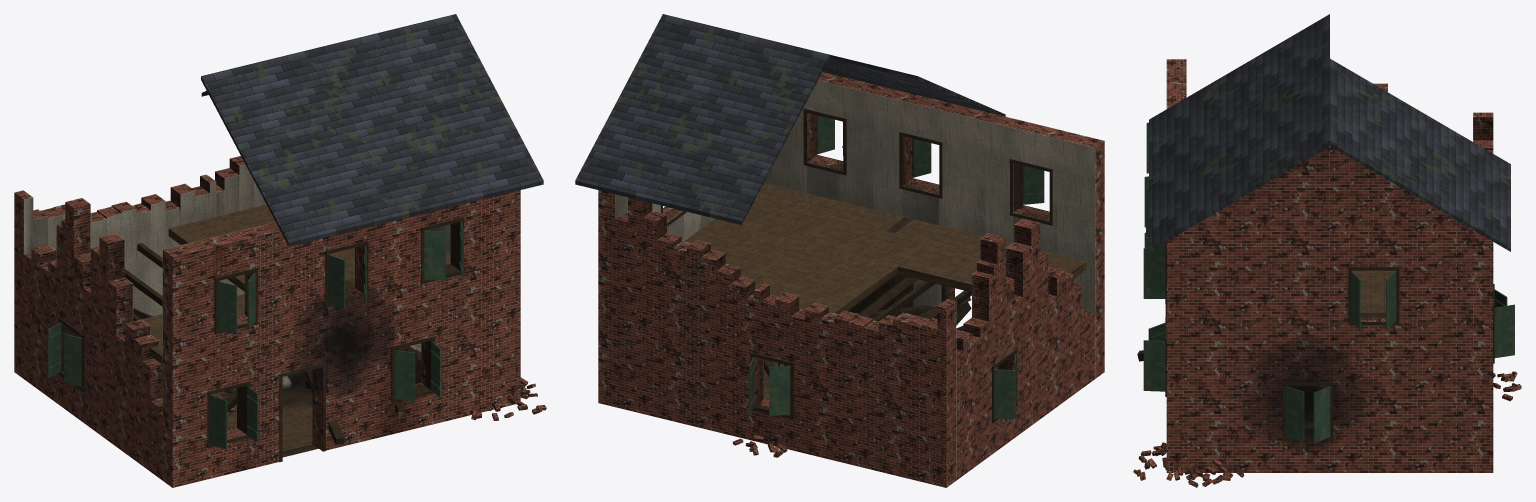
Rendered from ruined_house_a.glb.
3 views of the same model, side by side, from view 1: azimuth 30°, elevation 25°; view 2: azimuth 150°, elevation 25°; view 3: azimuth 270°, elevation 25° (orthographic). The views are drawn at different scales.
Visible parts, largest first — view 1: RuinedHouseA; view 2: RuinedHouseA; view 3: RuinedHouseA.
Boxes of the visible parts, bbox=[...] form: RuinedHouseA: bbox=[14, 14, 546, 487]; RuinedHouseA: bbox=[575, 14, 1104, 487]; RuinedHouseA: bbox=[1133, 14, 1521, 487].
Bounding box in the file's own units: 10.66 × 8.65 × 8.86.
Materials: 8 (8 with a texture image).
